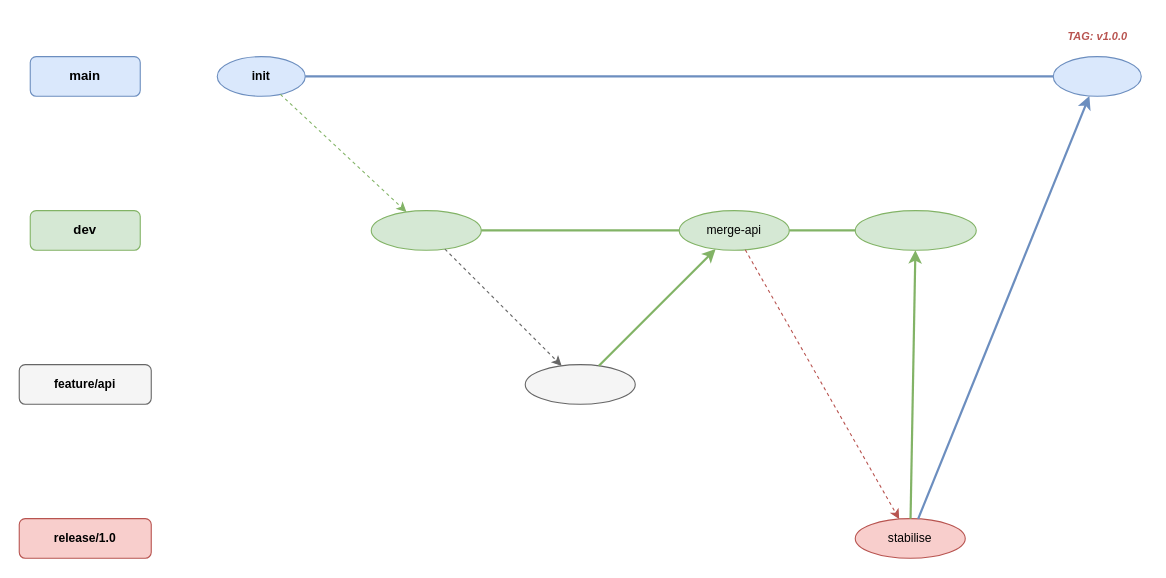
This 1166x578 diagram has some shape labels left out. Each missing label, with the centre of its shape:
back-merge: (915,230)
fastapi-app: (579,384)
pipeline-v1: (425,230)
v1.0.0: (1096,76)
